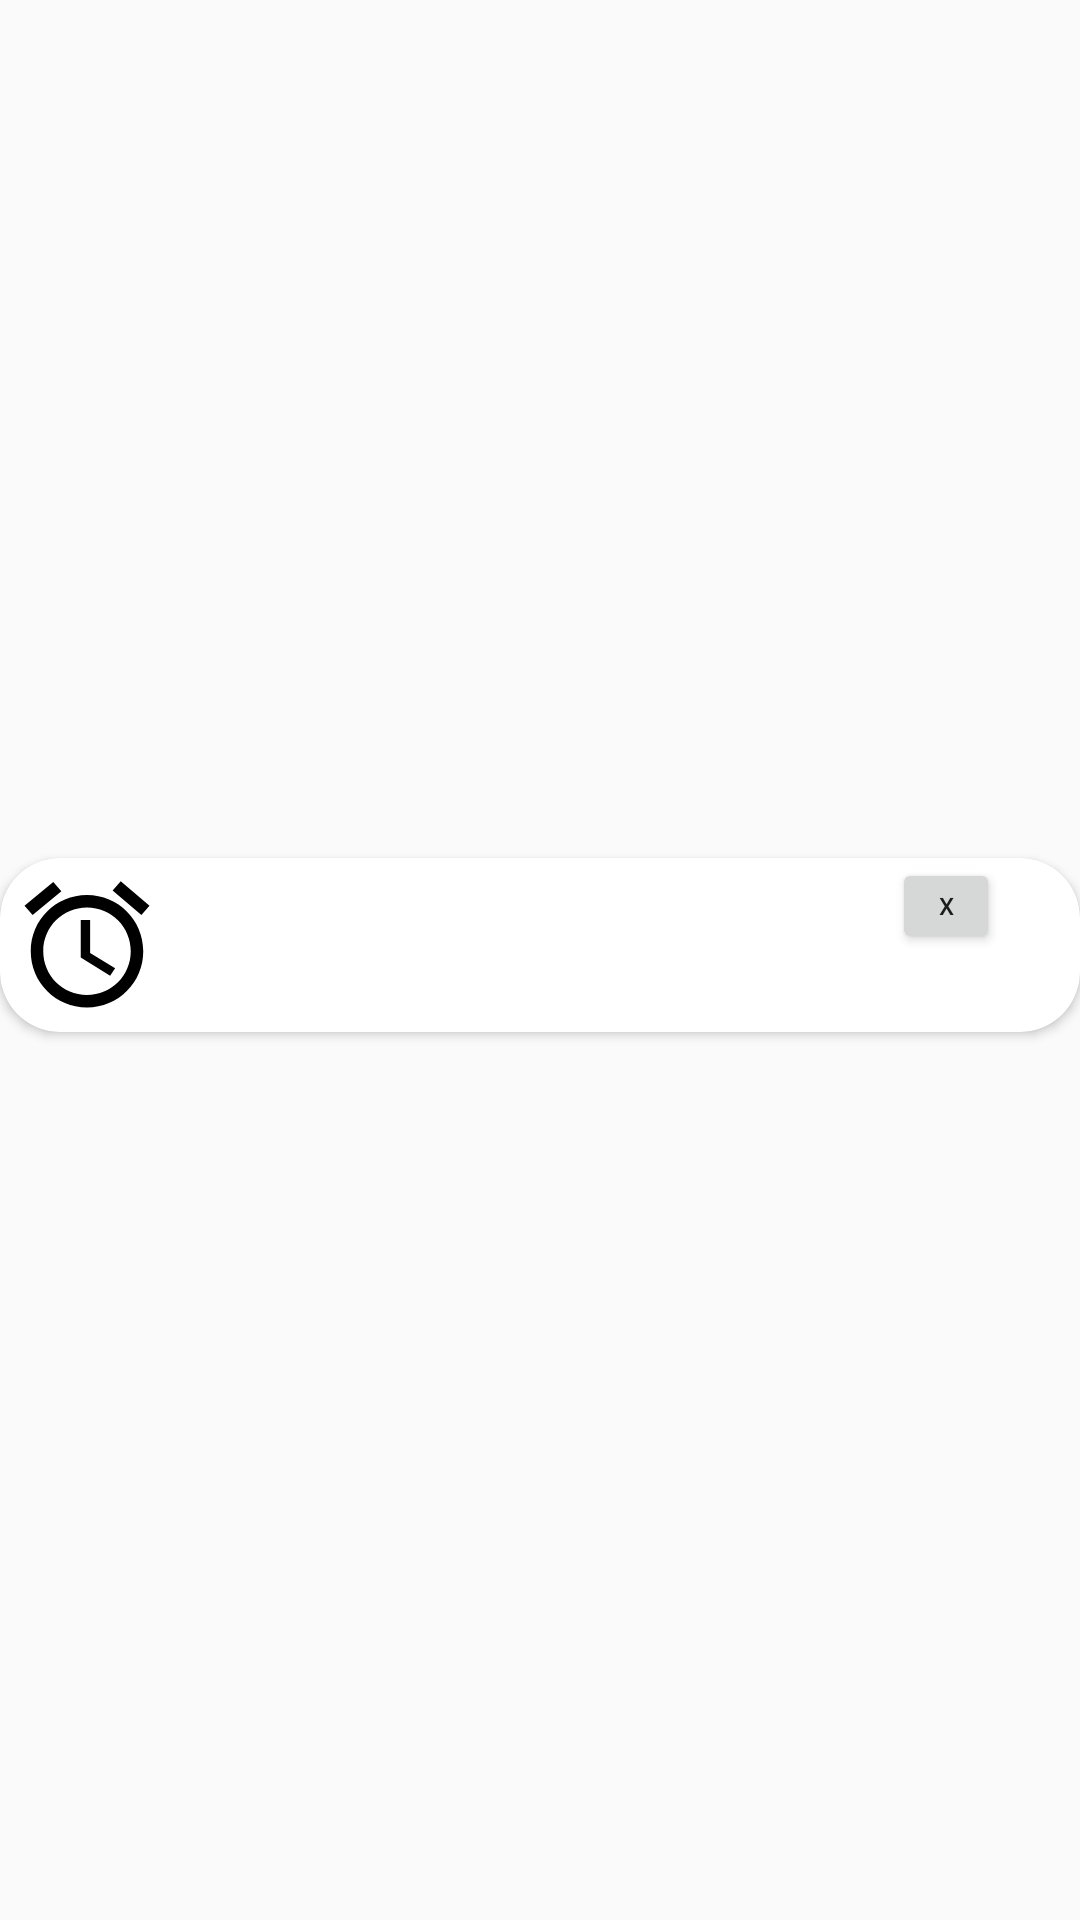

Point at icon controls on the screen. Image size 1080px x 1920px, points as point (x, y).
access alarms: point (87, 944)
